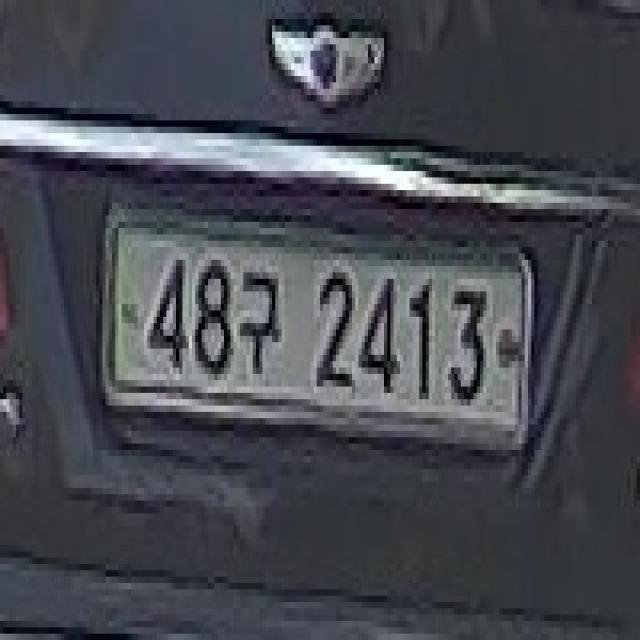1: (405, 268, 440, 412)
2: (312, 262, 354, 408)
3: (446, 272, 490, 409)
4: (140, 247, 192, 391), (359, 265, 401, 408)
8: (196, 248, 234, 394)
gu: (236, 261, 286, 390)
license_plate: (89, 188, 546, 481)
